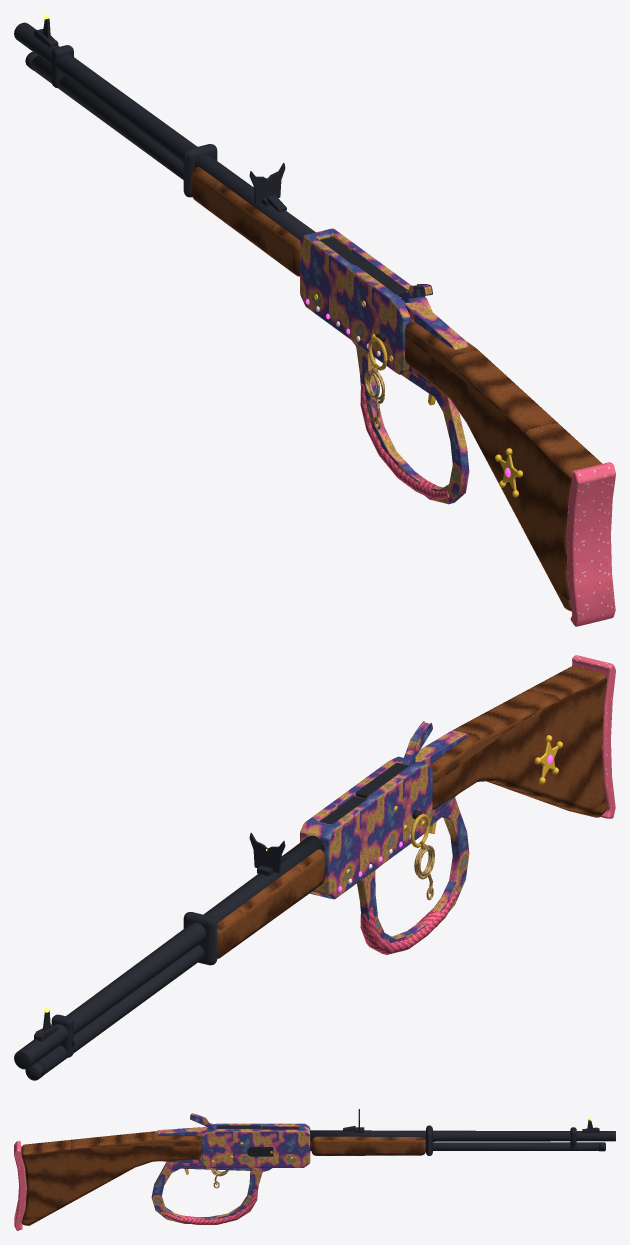
The model's file is w_lever.glb.
3 views of the same model, one above another, from view 1: azimuth 30°, elevation 25°; view 2: azimuth 150°, elevation 25°; view 3: azimuth 270°, elevation 25° (orthographic). The views are drawn at different scales.
Parts seen in each view (by area): view 1: lever_body_wzA, lever_body_wzB, lever_wzB, lever_body_wzN, lever_wzA; view 2: lever_body_wzA, lever_body_wzB, lever_wzB, lever_body_wzN, lever_wzA, lhammer_wzB; view 3: lever_body_wzA, lever_body_wzB, lever_wzB, lever_wzA, lever_body_wzN, lhammer_wzB.
Part boxes in pixels (x1=…): lever_body_wzA: x1=191, y1=166, x2=615, y2=626; lever_body_wzB: x1=14, y1=18, x2=407, y2=341; lever_wzB: x1=352, y1=341, x2=469, y2=504; lever_body_wzN: x1=44, y1=14, x2=522, y2=497; lever_wzA: x1=360, y1=383, x2=449, y2=500; lever_body_wzA: x1=217, y1=655, x2=615, y2=958; lever_body_wzB: x1=14, y1=762, x2=421, y2=1080; lever_wzB: x1=357, y1=797, x2=469, y2=942; lever_body_wzN: x1=44, y1=735, x2=562, y2=1012; lever_wzA: x1=360, y1=891, x2=457, y2=954; lhammer_wzB: x1=402, y1=721, x2=432, y2=765; lever_body_wzA: x1=14, y1=1123, x2=425, y2=1230; lever_body_wzB: x1=217, y1=1109, x2=615, y2=1156; lever_wzB: x1=151, y1=1161, x2=272, y2=1223; lever_wzA: x1=165, y1=1189, x2=257, y2=1224; lever_body_wzN: x1=184, y1=1117, x2=591, y2=1188; lhammer_wzB: x1=190, y1=1113, x2=216, y2=1129.
Bounding box in the file's own units: 0.0574 × 0.2479 × 1.2.
14 materials, 6 textured.
